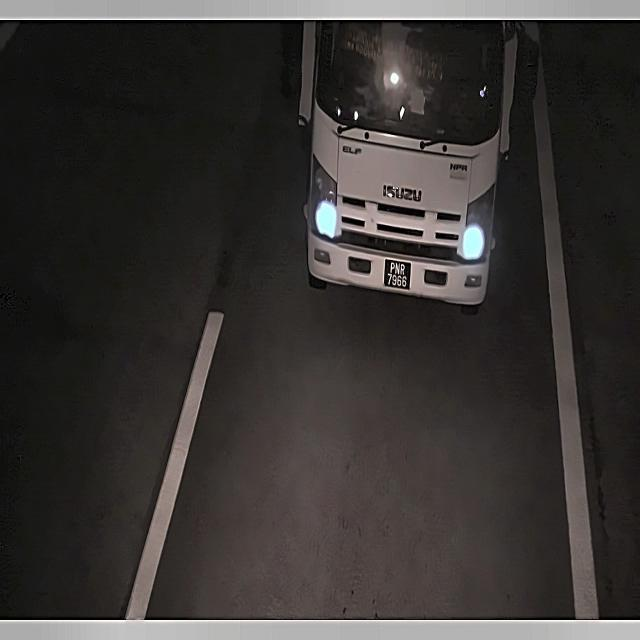car: (380, 252, 415, 300)
